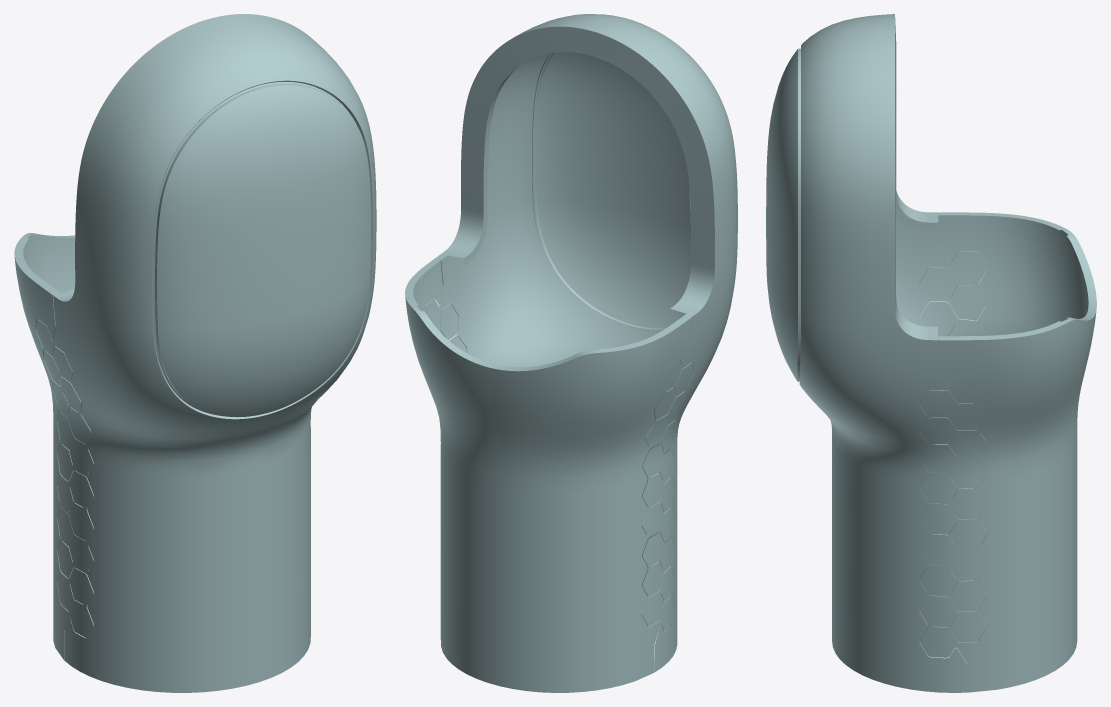
The model's file is right_arm_link2.obj.
3 renders of one model, left to right at view 1: azimuth 30°, elevation 25°; view 2: azimuth 150°, elevation 25°; view 3: azimuth 270°, elevation 25°, orthographic. The views are drawn at different scales.
Visible parts, largest first — view 1: 1; view 2: 1; view 3: 1.
Boxes of the visible parts, x1,y1,x2,y2 form: 1: (14,14,376,692); 1: (405,14,737,692); 1: (766,14,1096,692).
Bounding box in the file's own units: 0.1089 × 0.2423 × 0.1185.
